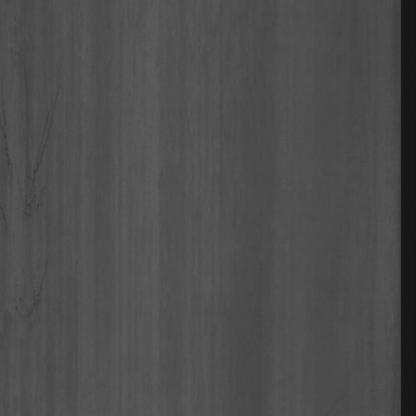water_spot: (0, 63, 58, 326)
